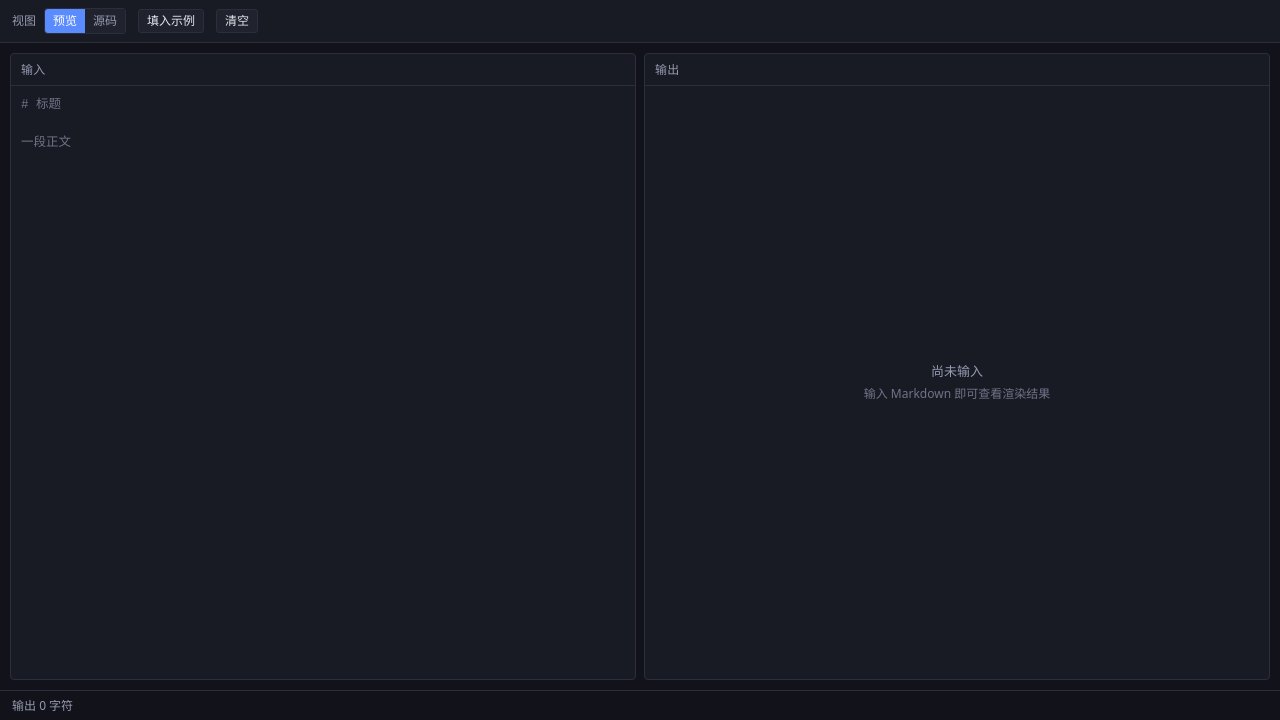
Markdown 转 HTML 工具 › 外部链接不产出 a 元素，只读展示地址
Type "[官网](https://example.com/docs)" into the text box named "Markdown 源码" at (323, 227), box [11, 86, 635, 368]
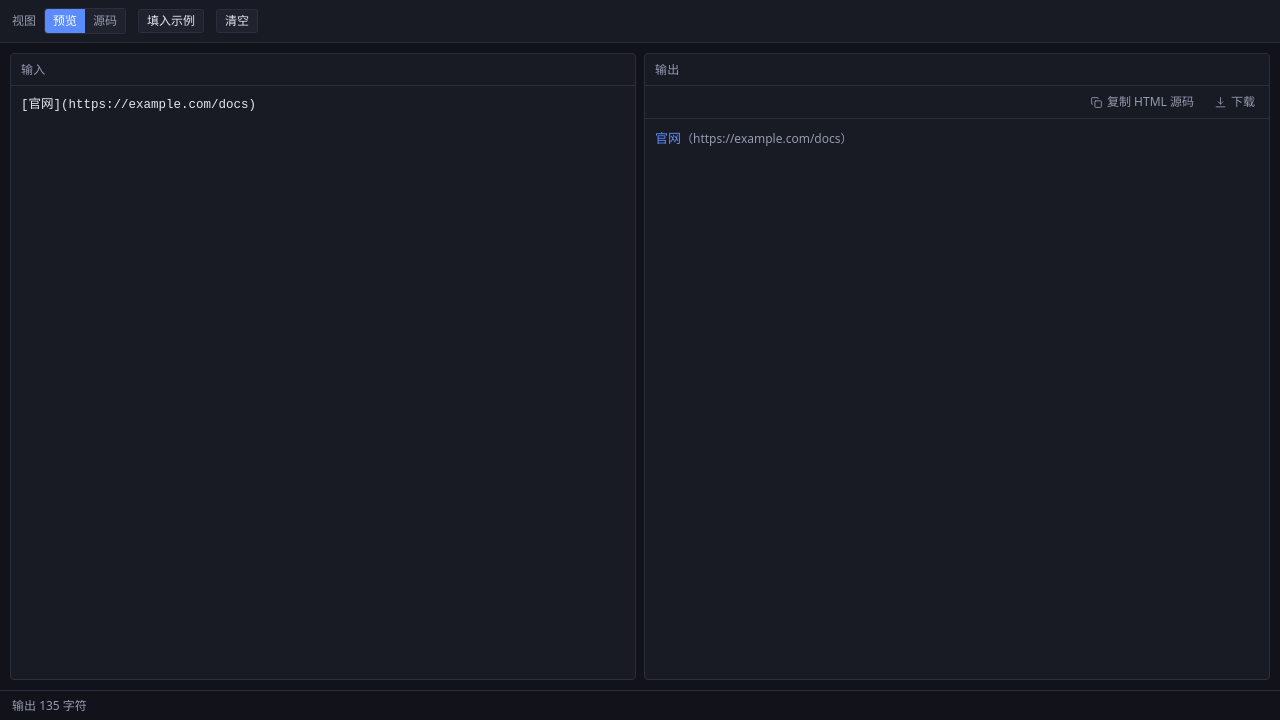
Expected: the element with test id "md-preview" shows "https://example.com/docs", [681, 130, 852, 147]
